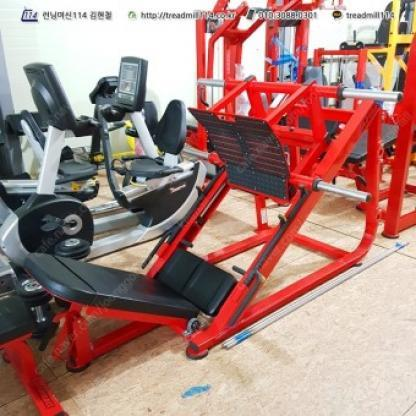leg press: (1, 58, 416, 416)
